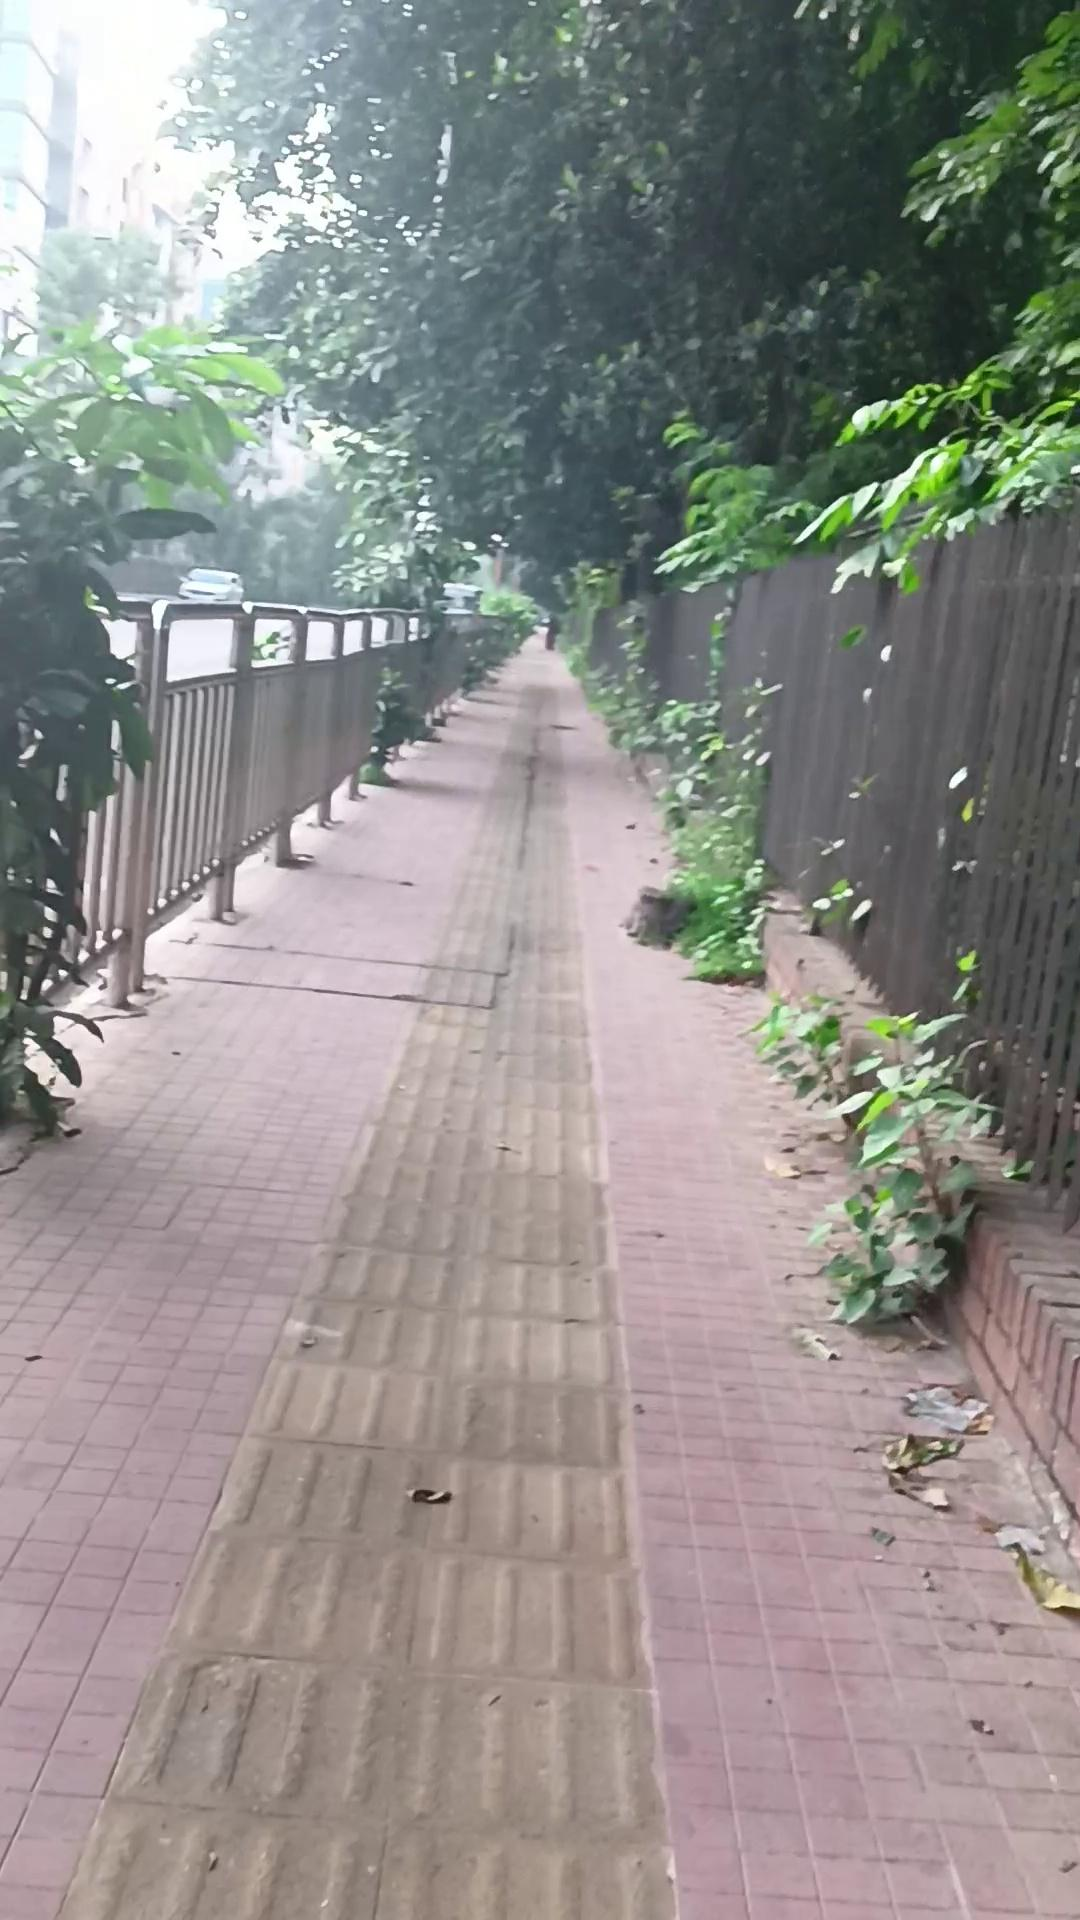Crosswalk: (756, 893, 1077, 1563)
Potted-plant: (0, 636, 1080, 1920)
